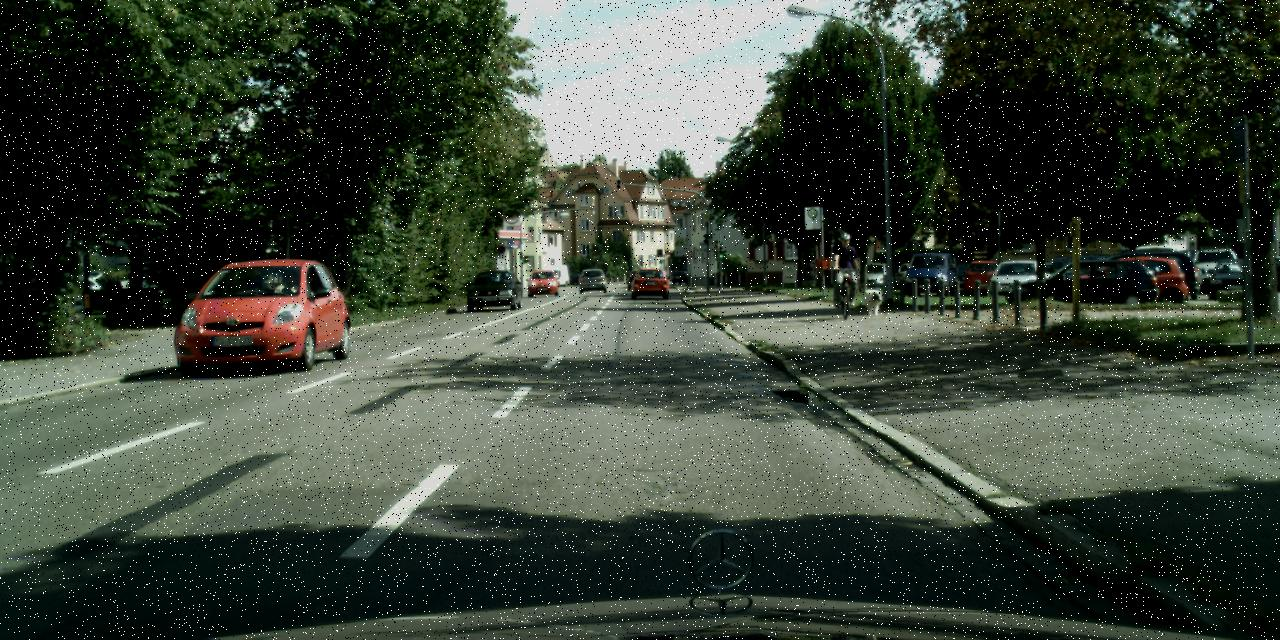ped: (830, 232, 860, 306)
